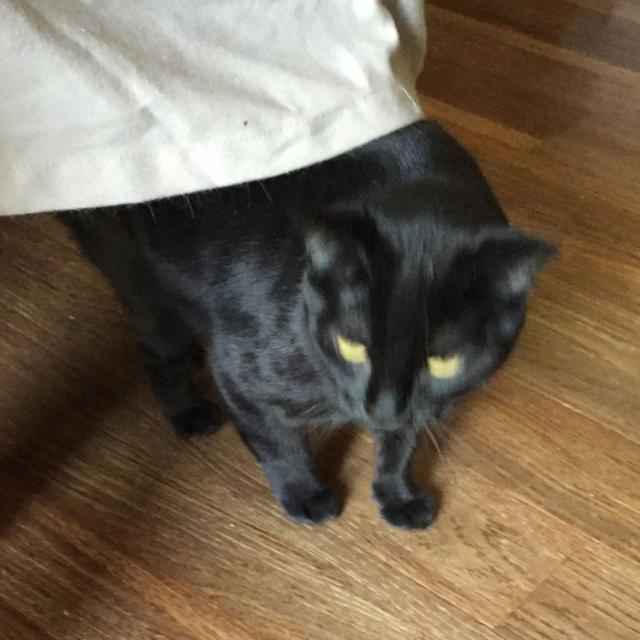bombay_cat: (262, 187, 568, 450)
